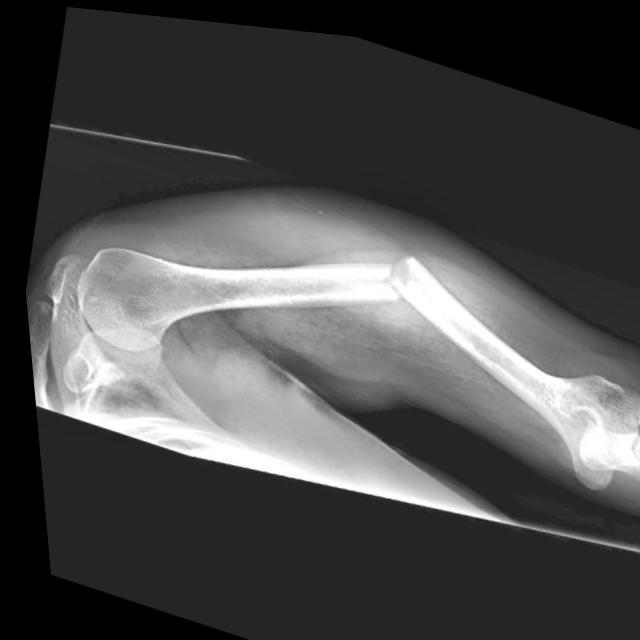fracture: (368, 234, 418, 303)
